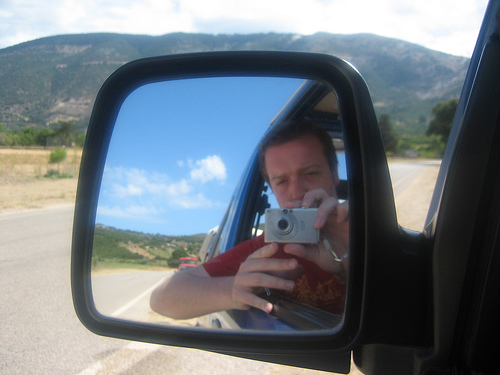car: (178, 258, 199, 271)
person: (150, 124, 351, 322)
